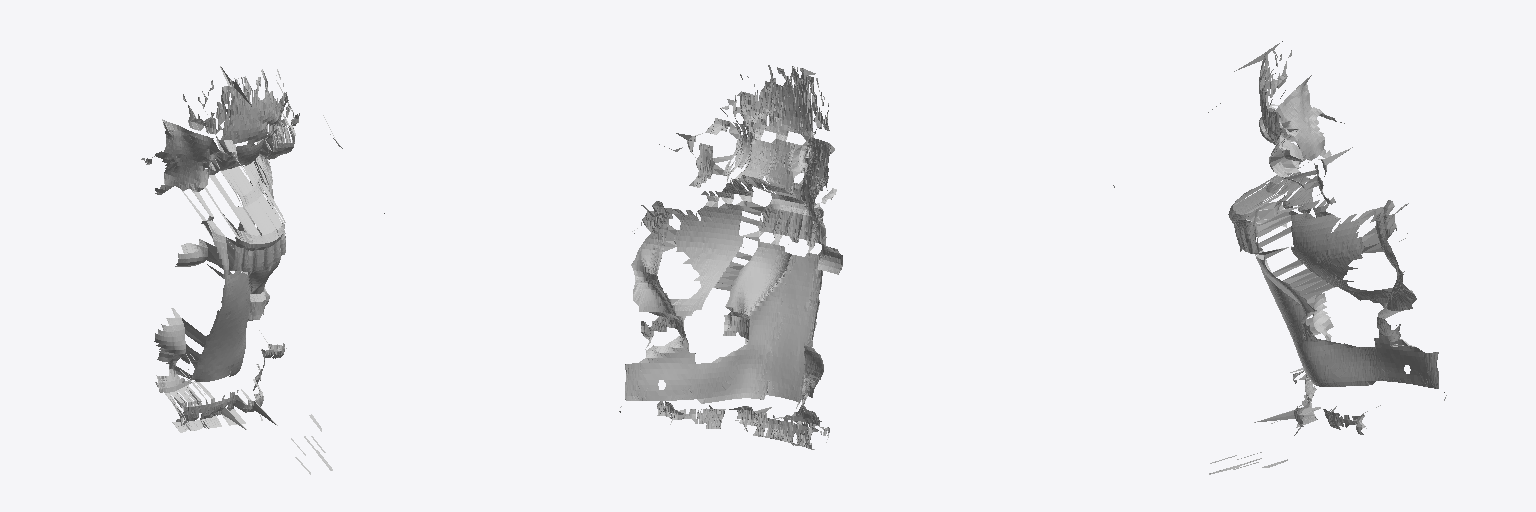
The model's file is frame-S00F45.obj.
3 views of the same model, side by side, from view 1: azimuth 30°, elevation 25°; view 2: azimuth 150°, elevation 25°; view 3: azimuth 270°, elevation 25° (orthographic).
Bounding box in the file's own units: 46.8 × 101 × 77.26.